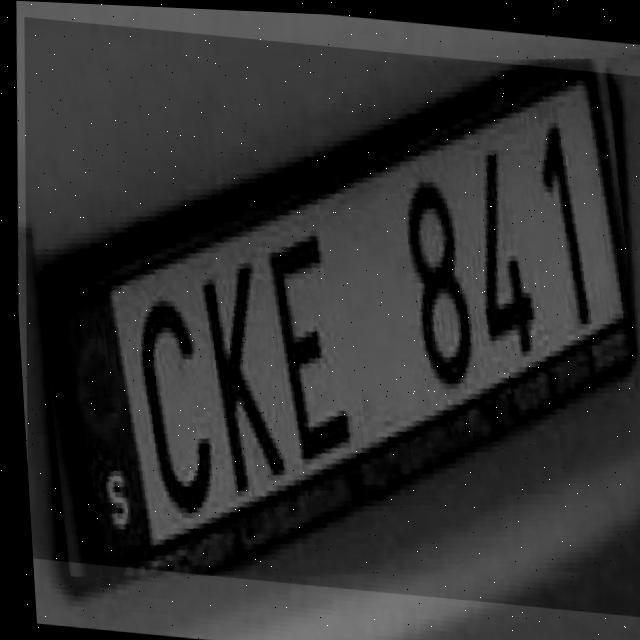LicensePlate: (1, 16, 640, 612)
